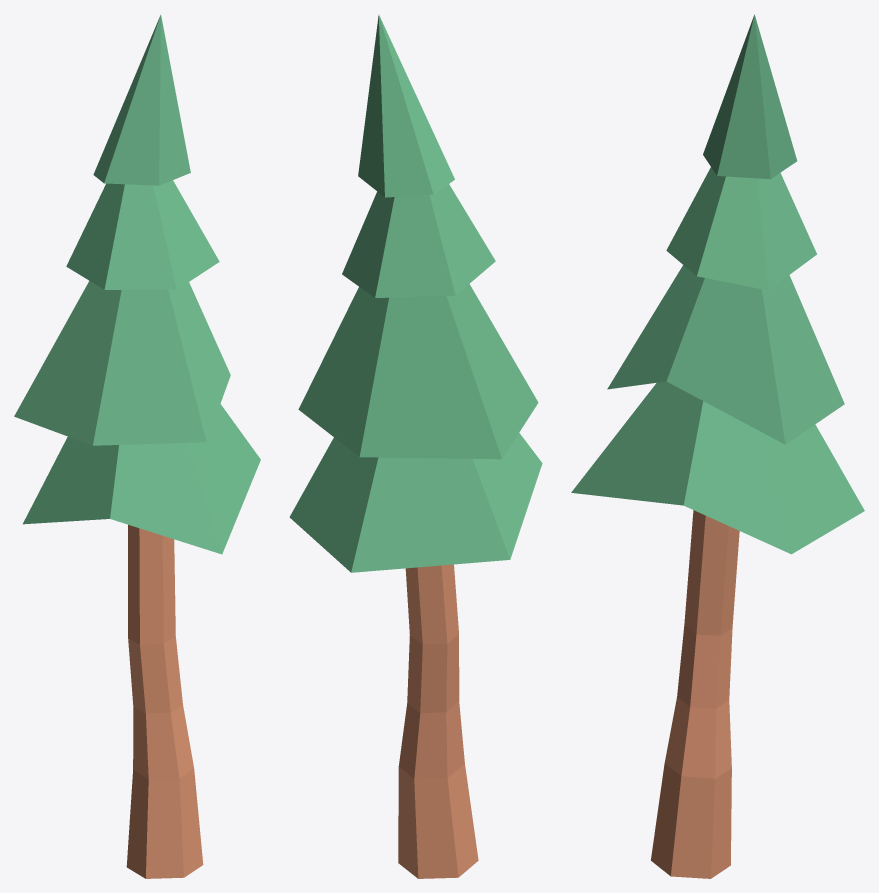
Rendered from Pine_3.obj.
3 renders of one model, left to right at view 1: azimuth 30°, elevation 25°; view 2: azimuth 150°, elevation 25°; view 3: azimuth 270°, elevation 25°, orthographic. The views are drawn at different scales.
Visible parts, largest first — view 1: Pine_3; view 2: Pine_3; view 3: Pine_3.
Boxes of the visible parts, x1,y1,x2,y2 form: Pine_3: (14,14,260,878); Pine_3: (289,14,542,878); Pine_3: (571,14,864,878).
Size of the model in its own units: 3.55 by 14.01 by 4.32.
